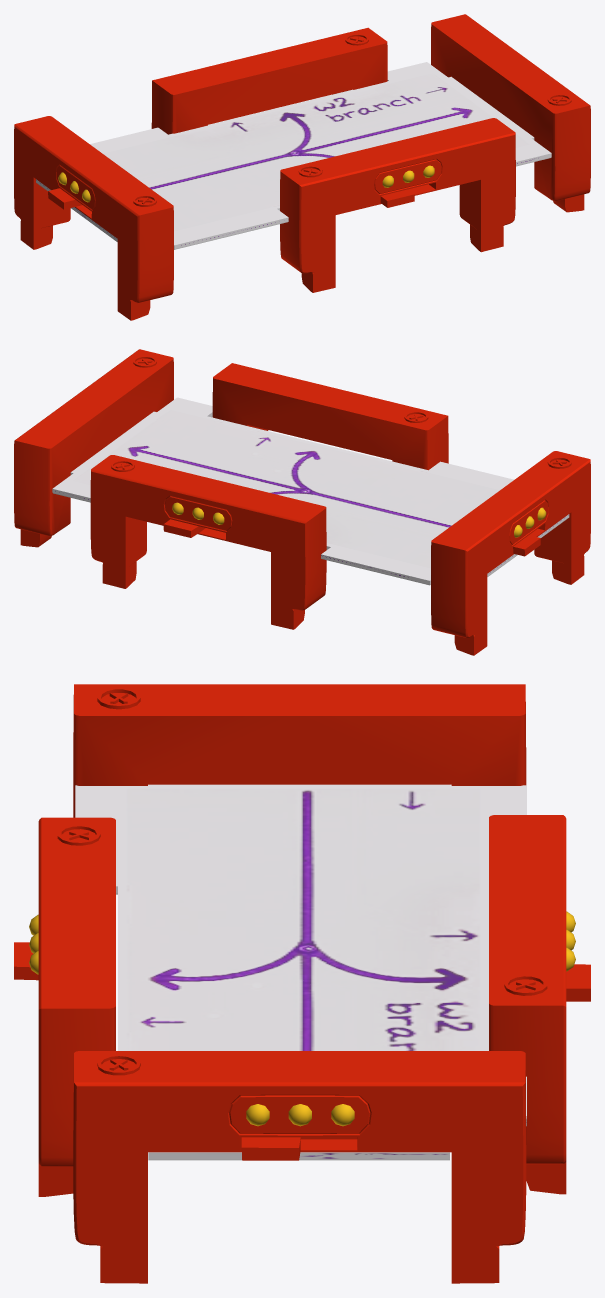
The model's file is littlebit w2 branch.fbx.
3 views of the same model, one above another, from view 1: azimuth 30°, elevation 25°; view 2: azimuth 150°, elevation 25°; view 3: azimuth 270°, elevation 25° (orthographic). The views are drawn at different scales.
Parts seen in each view (by area): view 1: Box001, Line004, Line002, Line003, Line001; view 2: Box001, Line003, Line002, Line004, Line001; view 3: Box001, Line001, Line002, Line003, Line004.
Part boxes in pixels (left/top/right/bottom): Box001: left=36, top=62, right=551, bottom=249; Line004: left=280, top=118, right=515, bottom=292; Line002: left=14, top=116, right=173, bottom=320; Line003: left=151, top=27, right=387, bottom=134; Line001: left=431, top=14, right=590, bottom=212; Box001: left=52, top=397, right=569, bottom=584; Line003: left=90, top=455, right=326, bottom=629; Line002: left=431, top=451, right=590, bottom=655; Line004: left=212, top=363, right=448, bottom=470; Line001: left=14, top=349, right=173, bottom=547; Box001: left=75, top=784, right=526, bottom=1159; Line001: left=73, top=1051, right=526, bottom=1283; Line002: left=73, top=684, right=526, bottom=817; Line003: left=489, top=815, right=590, bottom=1194; Line004: left=14, top=817, right=115, bottom=1196.
Bounding box in the file's own units: 57.72 × 33.43 × 13.
